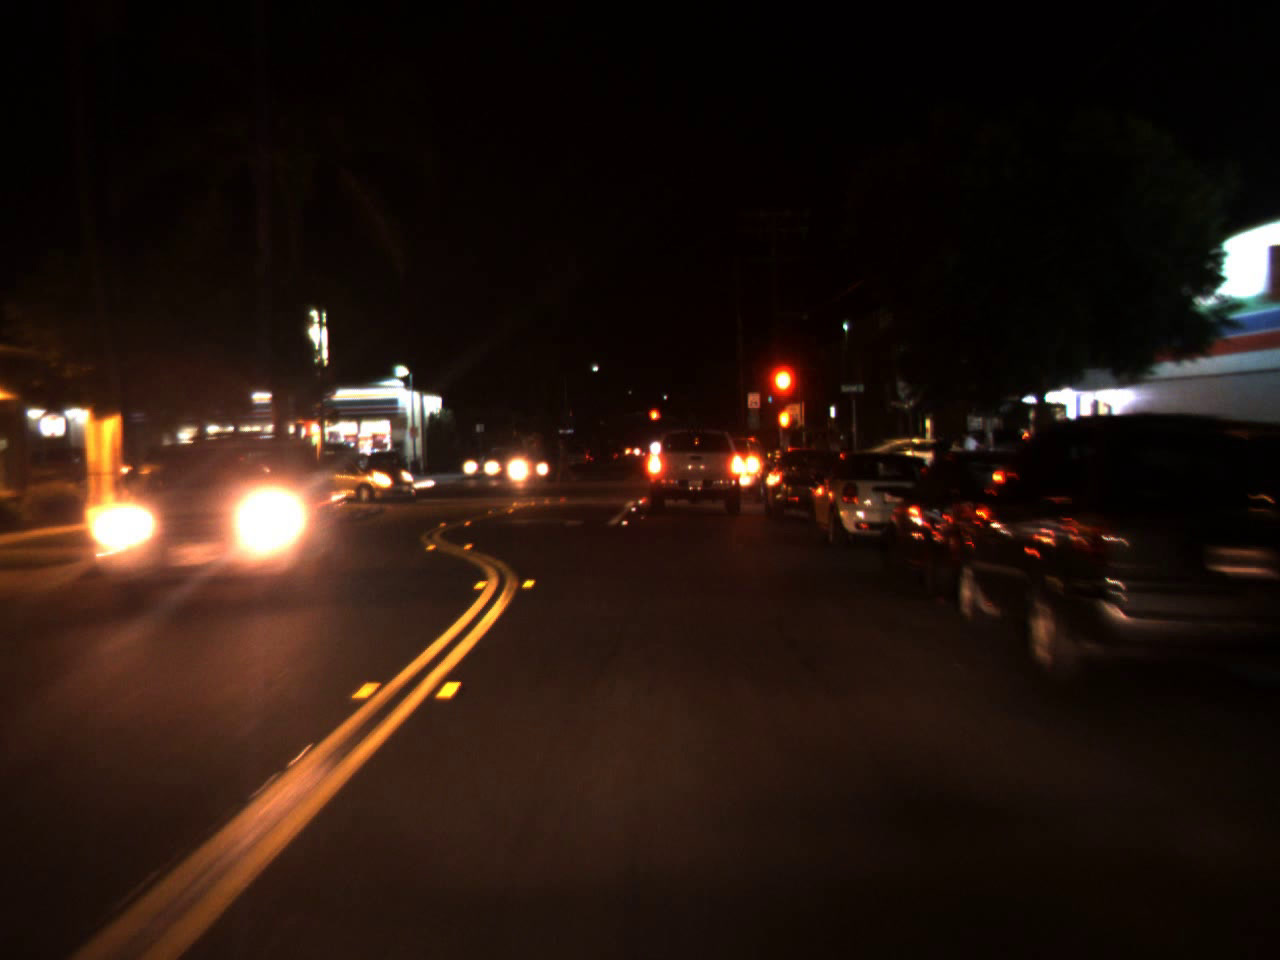stop: (767, 363, 797, 430), (647, 407, 660, 434)
